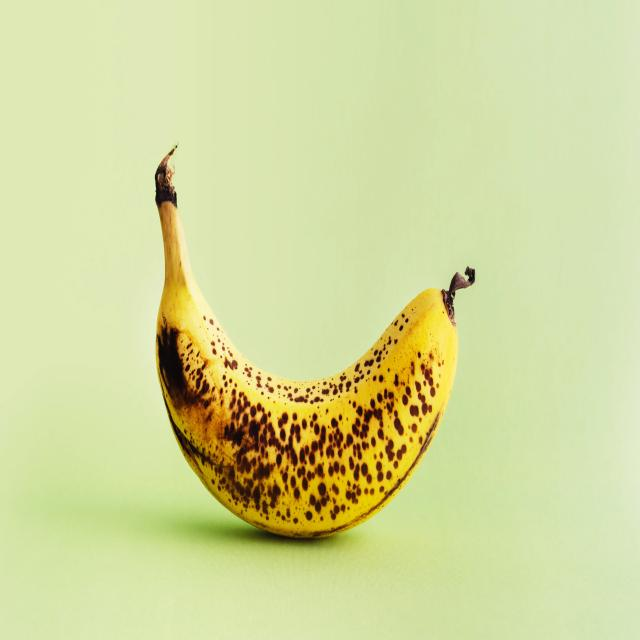banana: (155, 169, 460, 540)
